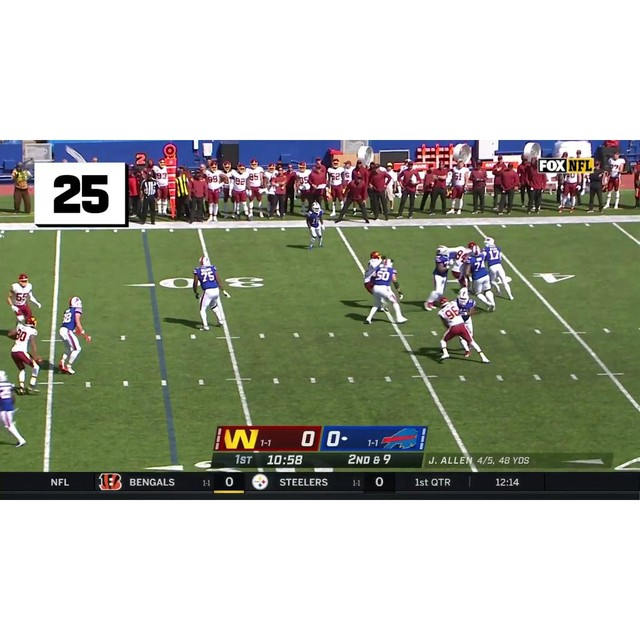american-football-player: (438, 291, 485, 363), (365, 258, 408, 324), (191, 256, 228, 331), (7, 316, 43, 392), (56, 297, 91, 375), (0, 370, 28, 448), (483, 237, 515, 301), (423, 245, 453, 309), (467, 249, 497, 311), (6, 273, 42, 324), (305, 201, 325, 252), (362, 251, 384, 295)
referee: (138, 170, 159, 226)
